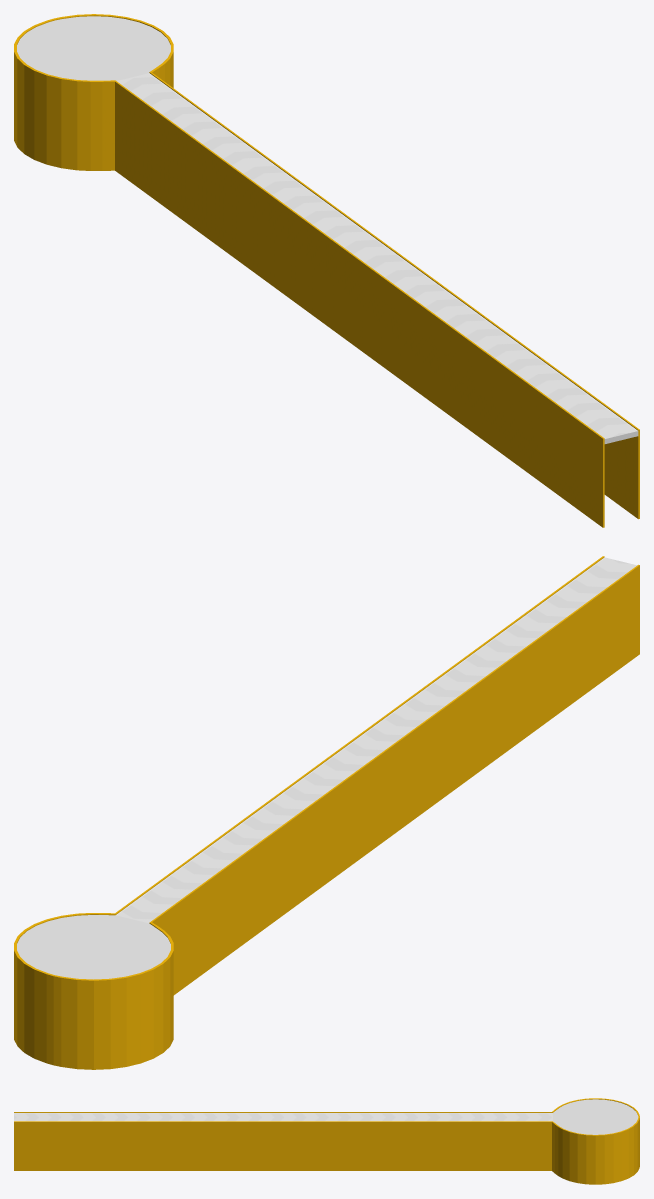
The model's file is Abstract_Path_00.fbx.
3 views of the same model, one above another, from view 1: azimuth 30°, elevation 25°; view 2: azimuth 150°, elevation 25°; view 3: azimuth 270°, elevation 25° (orthographic). The views are drawn at different scales.
Visible parts, largest first — view 1: Abstract_Path_00; view 2: Abstract_Path_00; view 3: Abstract_Path_00.
Boxes of the visible parts, left/top/right/bottom form: Abstract_Path_00: left=14, top=14, right=639, bottom=527; Abstract_Path_00: left=14, top=556, right=639, bottom=1069; Abstract_Path_00: left=14, top=1098, right=639, bottom=1184.
Size of the model in its own units: 754 by 462 by 5330.
Materials: 2 (2 with a texture image).
